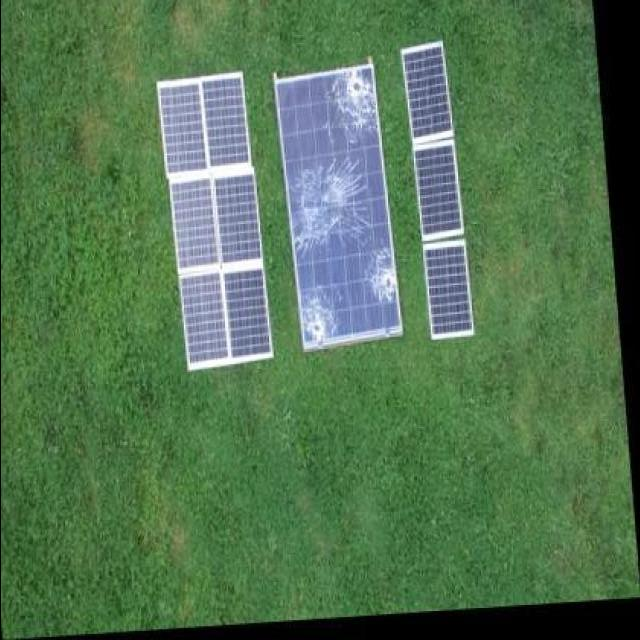cracked: (274, 54, 392, 353)
